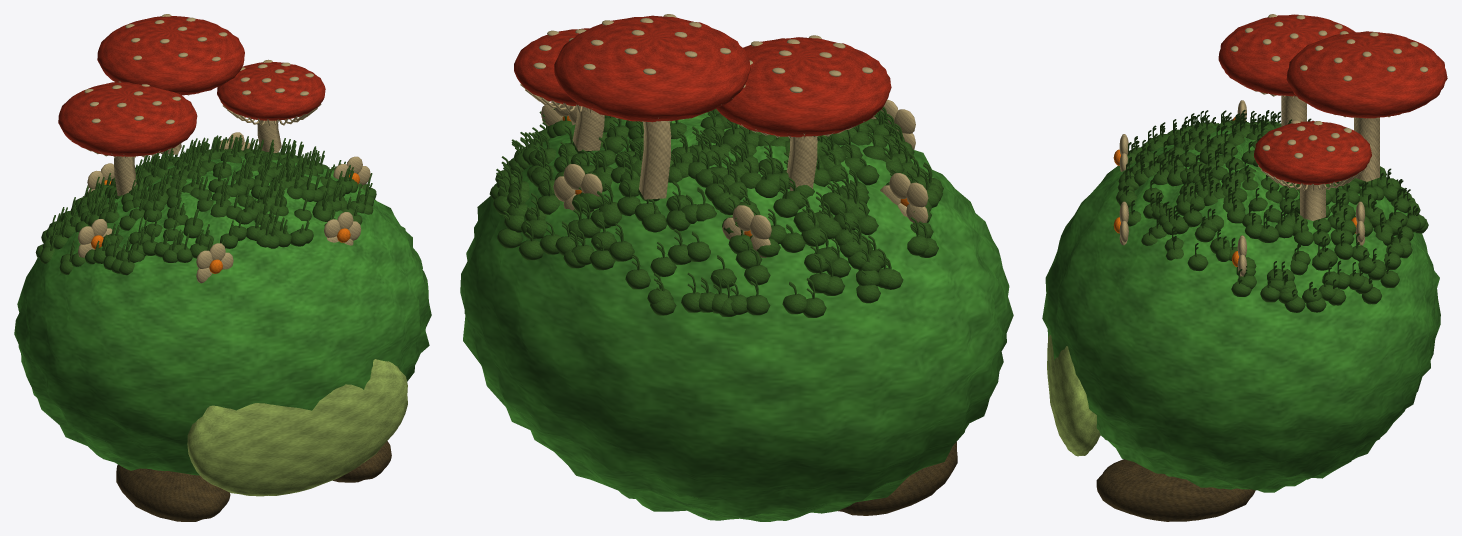
The model's file is mossy.glb.
The picture shows the model from 3 angles, left to right: view 1: azimuth 30°, elevation 25°; view 2: azimuth 150°, elevation 25°; view 3: azimuth 270°, elevation 25°; orthographic projection. The views are drawn at different scales.
Parts seen in each view (by area): view 1: body_mossy, growth_2_foliage_mushroom, growth_0_foliage_mushroom, growth_0_moss, growth_3_moss, growth_1_moss, growth_2_moss, growth_1_foliage_mushroom, growth_3_flowers; view 2: body_mossy, growth_2_foliage_mushroom, growth_2_moss, growth_0_foliage_mushroom, growth_0_moss, growth_1_moss, growth_3_moss, growth_3_flowers, growth_1_foliage_mushroom; view 3: body_mossy, growth_2_foliage_mushroom, growth_3_moss, growth_2_moss, growth_0_moss, growth_1_foliage_mushroom, growth_1_moss, growth_0_foliage_mushroom, growth_3_flowers.
Boxes of the visible parts, bbox=[...] form: body_mossy: bbox=[14, 155, 431, 521]; growth_2_foliage_mushroom: bbox=[97, 14, 244, 154]; growth_0_foliage_mushroom: bbox=[58, 81, 197, 195]; growth_0_moss: bbox=[40, 135, 362, 270]; growth_3_moss: bbox=[53, 135, 376, 274]; growth_1_moss: bbox=[42, 135, 346, 273]; growth_2_moss: bbox=[35, 137, 369, 275]; growth_1_foliage_mushroom: bbox=[217, 59, 325, 153]; growth_3_flowers: bbox=[78, 132, 370, 283]; body_mossy: bbox=[460, 112, 1013, 521]; growth_2_foliage_mushroom: bbox=[554, 14, 750, 199]; growth_2_moss: bbox=[489, 107, 943, 315]; growth_0_foliage_mushroom: bbox=[716, 35, 891, 190]; growth_0_moss: bbox=[506, 109, 939, 317]; growth_1_moss: bbox=[497, 109, 942, 314]; growth_3_moss: bbox=[496, 108, 938, 313]; growth_3_flowers: bbox=[541, 99, 928, 257]; growth_1_foliage_mushroom: bbox=[514, 28, 604, 151]; body_mossy: bbox=[1042, 126, 1440, 521]; growth_2_foliage_mushroom: bbox=[1286, 31, 1447, 181]; growth_3_moss: bbox=[1122, 111, 1420, 303]; growth_2_moss: bbox=[1117, 110, 1428, 312]; growth_0_moss: bbox=[1118, 111, 1426, 303]; growth_1_foliage_mushroom: bbox=[1254, 120, 1371, 220]; growth_1_moss: bbox=[1116, 110, 1413, 304]; growth_0_foliage_mushroom: bbox=[1218, 14, 1355, 126]; growth_3_flowers: bbox=[1113, 100, 1365, 276].
Bounding box in the file's own units: 1.99 × 2 × 1.72.
Materials: 7 (7 with a texture image).
